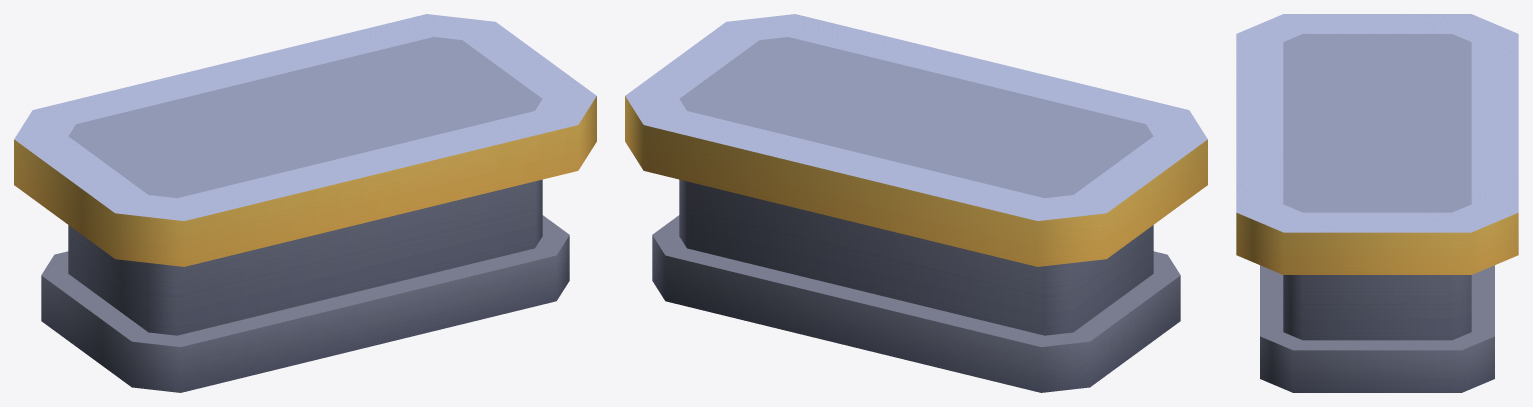
Rendered from table.glb.
The picture shows the model from 3 angles, left to right: view 1: azimuth 30°, elevation 25°; view 2: azimuth 150°, elevation 25°; view 3: azimuth 270°, elevation 25°; orthographic projection. The views are drawn at different scales.
Visible parts, largest first — view 1: table; view 2: table; view 3: table.
Part boxes in pixels (x1=…): table: x1=14, y1=14, x2=596, y2=392; table: x1=625, y1=14, x2=1207, y2=392; table: x1=1236, y1=14, x2=1518, y2=392.
Size of the model in its own units: 1.1 by 0.4 by 0.6.
Materials: 1 (1 with a texture image).
